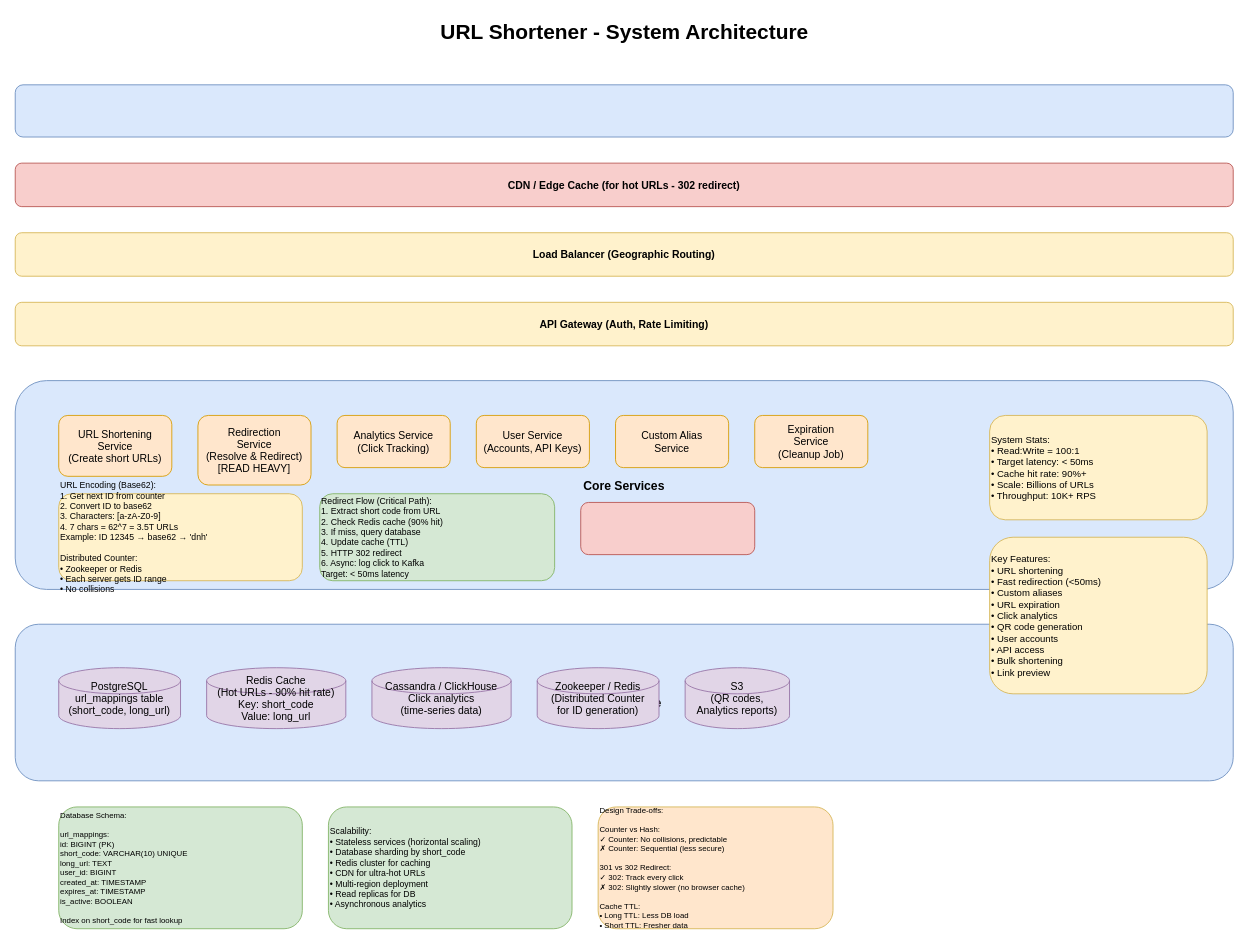
This 1248x945 diagram has some shape labels left out. Each missing label, with the centre of its shape:
"Clients (Web, Mobile, API)" belongs at [623,110].
"Message Queue (Kafka) Click events for analytics" belongs at [667,528].
